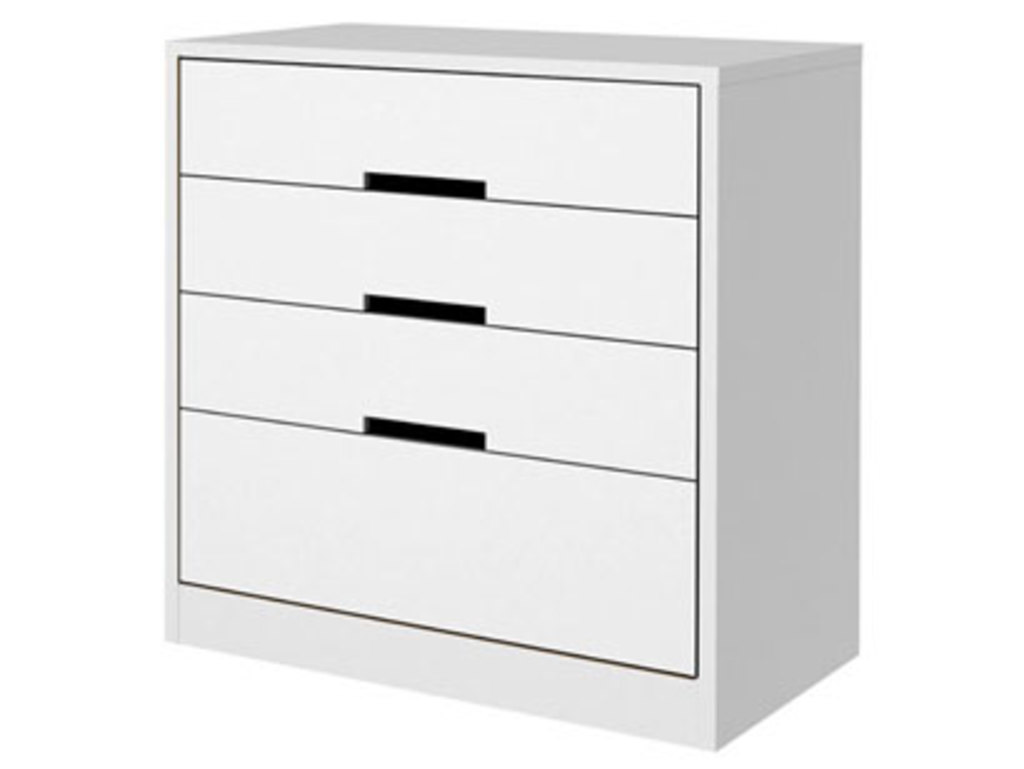cabinet door: (183, 415, 686, 635), (179, 280, 686, 480), (187, 166, 690, 351), (191, 60, 699, 224)
handle: (350, 281, 492, 336), (355, 408, 494, 460), (354, 168, 502, 211)
